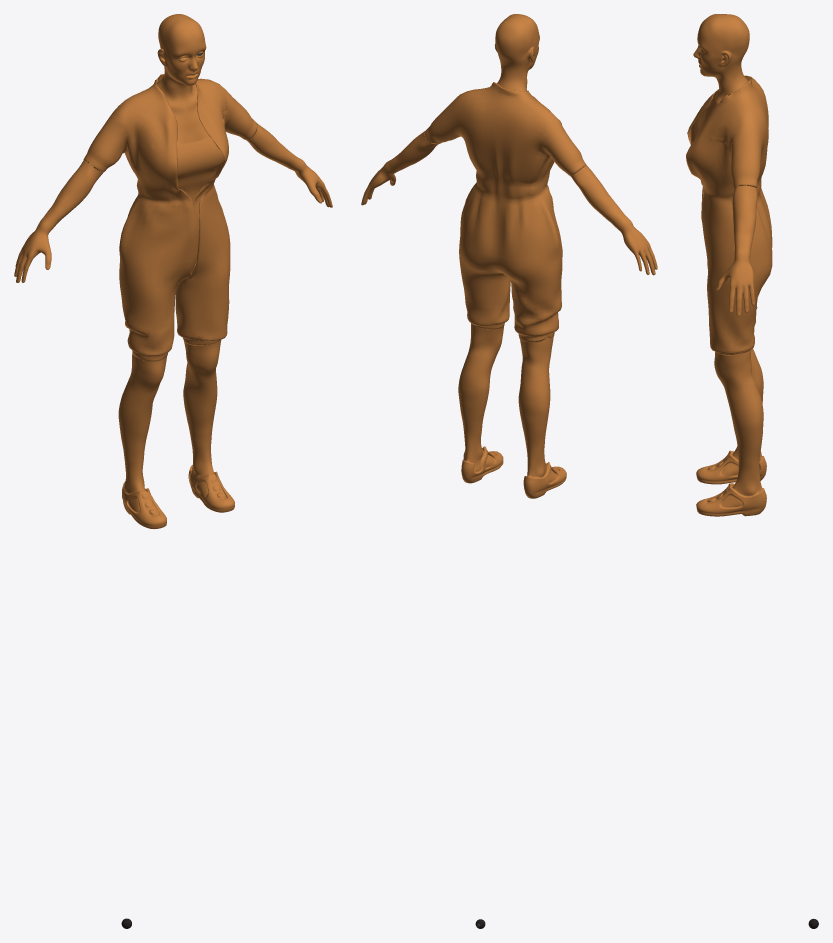
Rendered from PACKT_astronaut_crewsuit.FBX.
3 views of the same model, side by side, from view 1: azimuth 30°, elevation 25°; view 2: azimuth 150°, elevation 25°; view 3: azimuth 270°, elevation 25° (orthographic). The views are drawn at different scales.
Visible parts, largest first — view 1: astronaut_ crewsuit; view 2: astronaut_ crewsuit; view 3: astronaut_ crewsuit.
Part boxes in pixels (left/top/right/bottom): astronaut_ crewsuit: left=14, top=14, right=332, bottom=529; astronaut_ crewsuit: left=361, top=14, right=657, bottom=498; astronaut_ crewsuit: left=686, top=14, right=772, bottom=516.
Size of the model in its own units: 1.19 by 3.4 by 0.4475.
